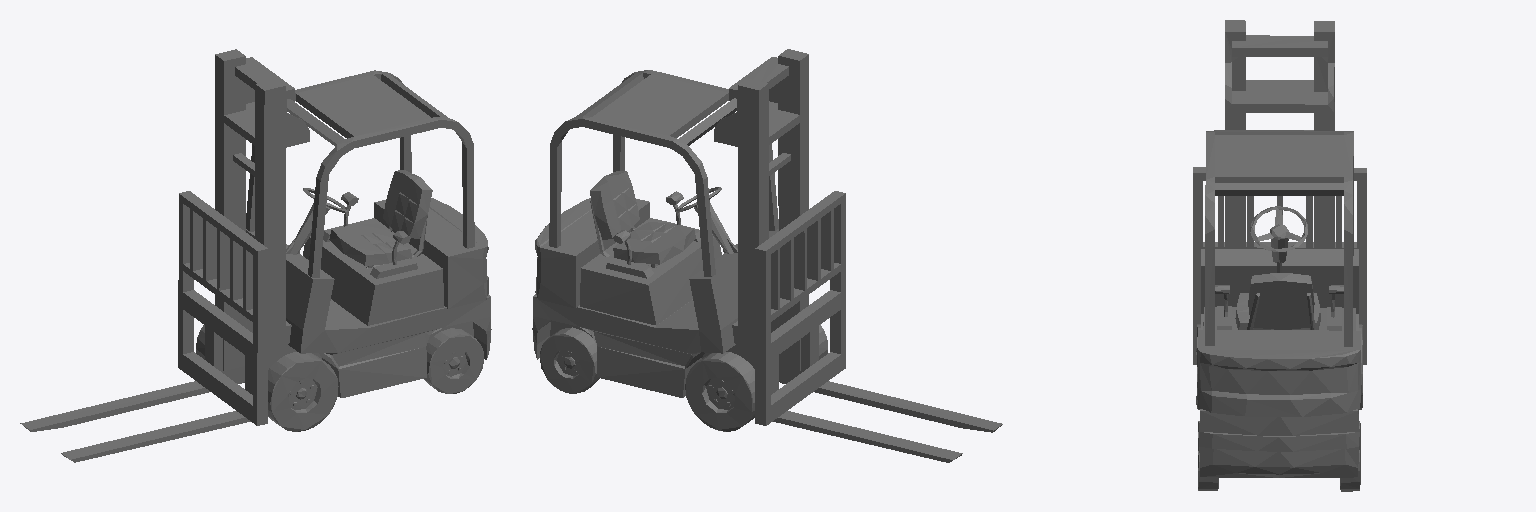
URDF robot description (forklift):
<?xml version="1.0" ?>
<robot name="forklift">
  <link name="world"/>
  <link name="empty_link_x"/>
  <link name="empty_link_y"/>

  <link name="chassi">
   <visual>
     <origin rpy="1.57 0 1.57" xyz="0 0 -0.09"/>
     <geometry>
        <mesh scale="0.25 0.25 0.25" filename="meshes/forklift.obj"/>
     </geometry>
      <material name="grey">
        <color rgba="0.5 0.5 0.5 0.5"/>
      </material>
   </visual>
   <collision>
     <origin rpy="1.57 0 1.57" xyz="0 0 -0.09"/>
     <geometry>
        <mesh scale="0.25 0.25 0.25" filename="meshes/forklift.obj"/>
     </geometry>
      <material name="grey">
        <color rgba="0.5 0.5 0.5 0.5"/>
      </material>
   </collision>
  </link>

  <joint name="joint_translation_x" type="prismatic">
    <origin xyz="-0.0 -0.0 0.0" rpy="0 0 3.14"/>
    <axis xyz="1 0 0"/>
    <parent link="world"/>
    <child link="empty_link_x"/>
    <limit effort="1" lower="-5.0" upper="5.0" velocity="1"/>
  </joint>
  <joint name="joint_translation_y" type="prismatic">
    <origin xyz="0 0 0" rpy="0 0 0"/>
    <axis xyz="0 1 0"/>
    <parent link="empty_link_x"/>
    <child link="empty_link_y"/>
    <limit effort="1" lower="-5.0" upper="5.0" velocity="1"/>
  </joint>
  <joint name="joint_rotation_yaw" type="continuous">
    <origin xyz="0 0 0.05" rpy="0 0 0"/>
    <axis xyz="0 0 1"/>
    <parent link="empty_link_y"/>
    <child link="chassi"/>
  </joint>

</robot>

--- What the picture shows (computed from the rendered views, not written in the file) ---
3 views of the same robot in one strip: view 1: azimuth 30°, elevation 25°; view 2: azimuth 150°, elevation 25°; view 3: azimuth 270°, elevation 25° (orthographic).
Model forklift with 4 links and 3 joints (1 continuous, 2 prismatic), rooted at world, posed every joint at zero.
Links seen in each view (by area): view 1: chassi; view 2: chassi; view 3: chassi.
Link boxes in pixels (x1,y1,x2,y2): chassi: (20,49,491,462); chassi: (532,49,1002,462); chassi: (1193,20,1366,491).
Bounding box of the posed robot: 1.55 × 0.507 × 1.19 m (x, y, z).
1 mesh visuals loaded from 1 distinct referenced files (1 OBJ).
